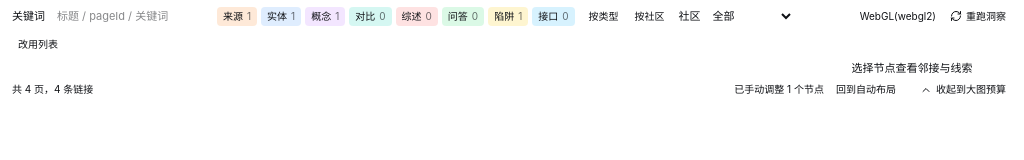
Scenario: KbWikiGraph — 画布模式（WebGL 可用） › 拖动节点后暴露手动布局状态并支持回到自动布局
The image size is (1024, 160).
Expected: the element with test id "kb-graph-manual-layout" shows "已手动调整 1 个节点", [734, 80, 902, 99]
Click the button with test id "kb-graph-reset-layout" at (866, 90), box [830, 80, 902, 99]
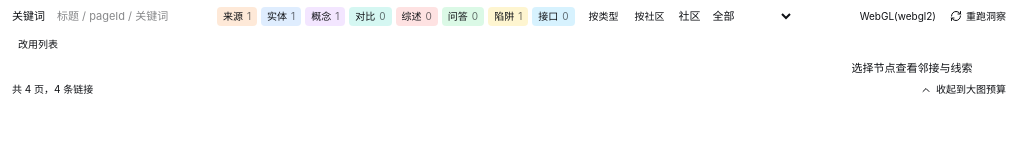
Now the element with test id "kb-graph-manual-layout" is gone
